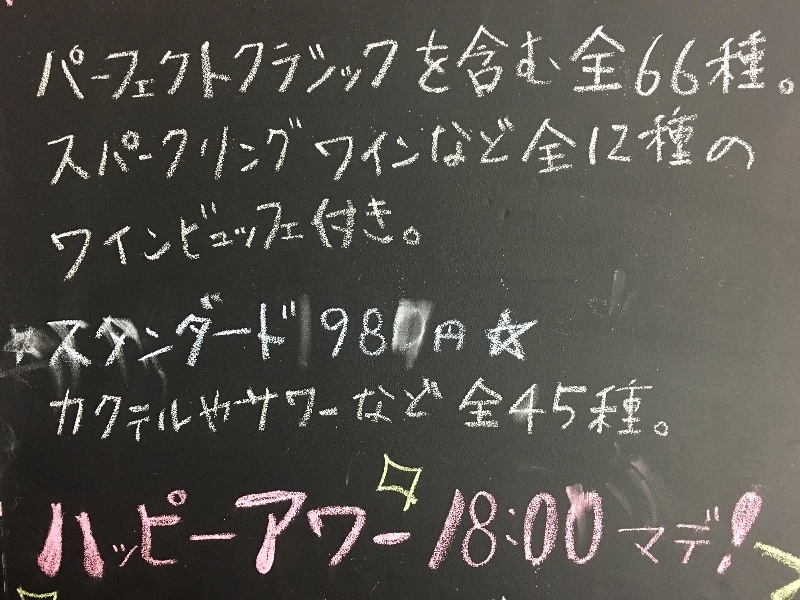text: (65, 185, 80, 285), (81, 185, 96, 285), (97, 185, 112, 285), (113, 185, 128, 285), (129, 185, 144, 285), (145, 185, 160, 285), (161, 185, 176, 285), (177, 185, 192, 285), (193, 185, 208, 285), (209, 185, 224, 285), (225, 185, 240, 285), (241, 185, 256, 285), (257, 185, 272, 285), (273, 185, 288, 285), (289, 185, 304, 285), (305, 185, 320, 285), (321, 185, 336, 285), (337, 185, 352, 285), (353, 185, 368, 285), (369, 185, 384, 285), (385, 185, 400, 285), (401, 185, 416, 285), (49, 492, 64, 580), (65, 492, 80, 580), (81, 492, 96, 580), (97, 492, 112, 580), (113, 492, 128, 580), (129, 492, 144, 580), (145, 492, 160, 580), (161, 492, 176, 580), (177, 492, 192, 580), (193, 492, 208, 580), (209, 492, 224, 580), (225, 492, 240, 580), (241, 492, 256, 580), (257, 492, 272, 580), (273, 492, 288, 580), (289, 492, 304, 580), (305, 492, 320, 580), (321, 492, 336, 580), (337, 492, 352, 580), (353, 492, 368, 580), (369, 492, 384, 580), (385, 492, 400, 580), (401, 492, 416, 580), (417, 492, 432, 580), (433, 492, 448, 580), (449, 492, 464, 580), (465, 492, 480, 580), (481, 492, 496, 580), (497, 492, 512, 580), (513, 492, 528, 580), (529, 492, 544, 580), (545, 492, 560, 580), (561, 492, 576, 580), (577, 492, 592, 580), (593, 492, 608, 580), (609, 492, 624, 580), (625, 492, 640, 580), (641, 492, 656, 580), (657, 492, 672, 580), (673, 492, 688, 580), (689, 492, 704, 580), (705, 492, 720, 580), (721, 492, 736, 580), (737, 492, 752, 580), (753, 492, 768, 580), (51, 185, 64, 285), (49, 16, 64, 101), (65, 16, 80, 101), (81, 16, 96, 101), (97, 16, 112, 101), (113, 16, 128, 101), (129, 16, 144, 101), (145, 16, 160, 101), (161, 16, 176, 101), (177, 16, 192, 101), (193, 16, 208, 101), (209, 16, 224, 101), (225, 16, 240, 101), (241, 16, 256, 101), (257, 16, 272, 101), (273, 16, 288, 101), (289, 16, 304, 101), (305, 16, 320, 101), (321, 16, 336, 101), (337, 16, 352, 101), (353, 16, 368, 101), (369, 16, 384, 101), (385, 16, 400, 101), (401, 16, 416, 101), (417, 16, 432, 101), (433, 16, 448, 101), (449, 16, 464, 101), (465, 16, 480, 101), (481, 16, 496, 101), (497, 16, 512, 101), (513, 16, 528, 101), (529, 16, 544, 101), (545, 16, 560, 101), (561, 16, 576, 101), (577, 16, 592, 101), (593, 16, 608, 101), (609, 16, 624, 101), (625, 16, 640, 101), (641, 16, 656, 101), (657, 16, 672, 101), (673, 16, 688, 101), (689, 16, 704, 101), (705, 16, 720, 101), (721, 16, 736, 101), (737, 16, 752, 101), (753, 16, 768, 101), (769, 16, 784, 101), (49, 293, 64, 376), (65, 293, 80, 376), (81, 293, 96, 376), (97, 293, 112, 376), (113, 293, 128, 376), (129, 293, 144, 376), (145, 293, 160, 376), (161, 293, 176, 376), (177, 293, 192, 376), (193, 293, 208, 376), (209, 293, 224, 376), (225, 293, 240, 376), (241, 293, 256, 376), (257, 293, 272, 376), (273, 293, 288, 376), (289, 293, 304, 376), (305, 293, 320, 376), (321, 293, 336, 376), (337, 293, 352, 376), (353, 293, 368, 376), (369, 293, 384, 376), (385, 293, 400, 376), (401, 293, 416, 376), (417, 293, 432, 376), (433, 293, 448, 376), (449, 293, 464, 376), (49, 105, 64, 185), (65, 105, 80, 185), (81, 105, 96, 185), (97, 105, 112, 185), (113, 105, 128, 185), (129, 105, 144, 185), (145, 105, 160, 185), (161, 105, 176, 185), (177, 105, 192, 185), (193, 105, 208, 185), (209, 105, 224, 185), (225, 105, 240, 185), (241, 105, 256, 185), (257, 105, 272, 185), (273, 105, 288, 185), (289, 105, 304, 185), (305, 105, 320, 185), (321, 105, 336, 185), (337, 105, 352, 185), (353, 105, 368, 185), (369, 105, 384, 185), (385, 105, 400, 185), (401, 105, 416, 185), (417, 105, 432, 185), (433, 105, 448, 185), (449, 105, 464, 185), (465, 105, 480, 185), (481, 105, 496, 185), (497, 105, 512, 185), (513, 105, 528, 185), (529, 105, 544, 185), (545, 105, 560, 185), (561, 105, 576, 185), (577, 105, 592, 185), (593, 105, 608, 185), (609, 105, 624, 185), (625, 105, 640, 185), (641, 105, 656, 185), (657, 105, 672, 185), (673, 105, 688, 185), (689, 105, 704, 185), (705, 105, 720, 185), (721, 105, 736, 185), (737, 105, 752, 185), (65, 373, 80, 444), (81, 373, 96, 444), (97, 373, 112, 444), (113, 373, 128, 444), (129, 373, 144, 444), (145, 373, 160, 444), (161, 373, 176, 444), (177, 373, 192, 444), (193, 373, 208, 444), (209, 373, 224, 444), (225, 373, 240, 444), (241, 373, 256, 444), (257, 373, 272, 444), (273, 373, 288, 444), (289, 373, 304, 444), (305, 373, 320, 444), (321, 373, 336, 444), (337, 373, 352, 444), (353, 373, 368, 444), (369, 373, 384, 444), (385, 373, 400, 444), (401, 373, 416, 444), (417, 373, 432, 444), (433, 373, 448, 444), (449, 373, 464, 444), (465, 373, 480, 444), (481, 373, 496, 444), (497, 373, 512, 444), (513, 373, 528, 444), (529, 373, 544, 444), (545, 373, 560, 444), (561, 373, 576, 444), (577, 373, 592, 444), (593, 373, 608, 444), (609, 373, 624, 444), (625, 373, 640, 444), (641, 373, 656, 444), (51, 373, 64, 444), (657, 373, 670, 444), (785, 16, 795, 101), (417, 185, 425, 285), (40, 16, 48, 101), (769, 492, 774, 580), (44, 492, 48, 580), (465, 293, 468, 376), (753, 105, 756, 185), (46, 105, 48, 185), (47, 293, 48, 376)
